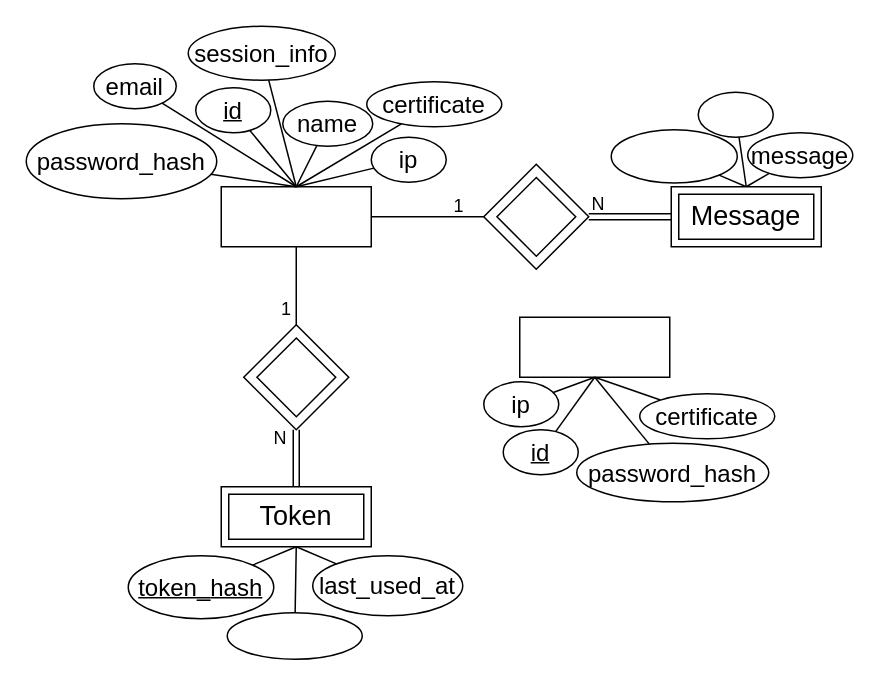
Some shapes in this 879 by 686 pixel diagram are drawn without their labels. Here are the shapes that lost their labels. From the top down, the box of each, then its label:
(697, 91, 773, 137): cid
(610, 128, 737, 183): msg_ date
(220, 185, 371, 247): User
(518, 316, 670, 377): Router
(226, 611, 362, 659): created_ at
